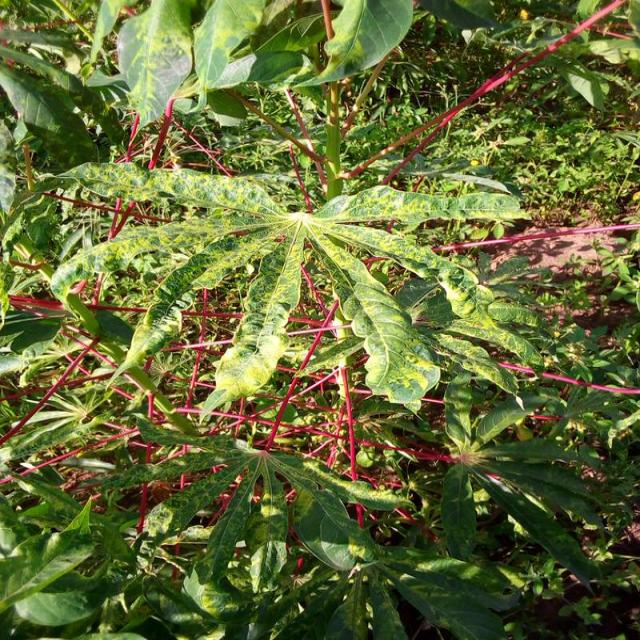cassava leaf: (1, 1, 636, 637), (40, 153, 537, 420)
